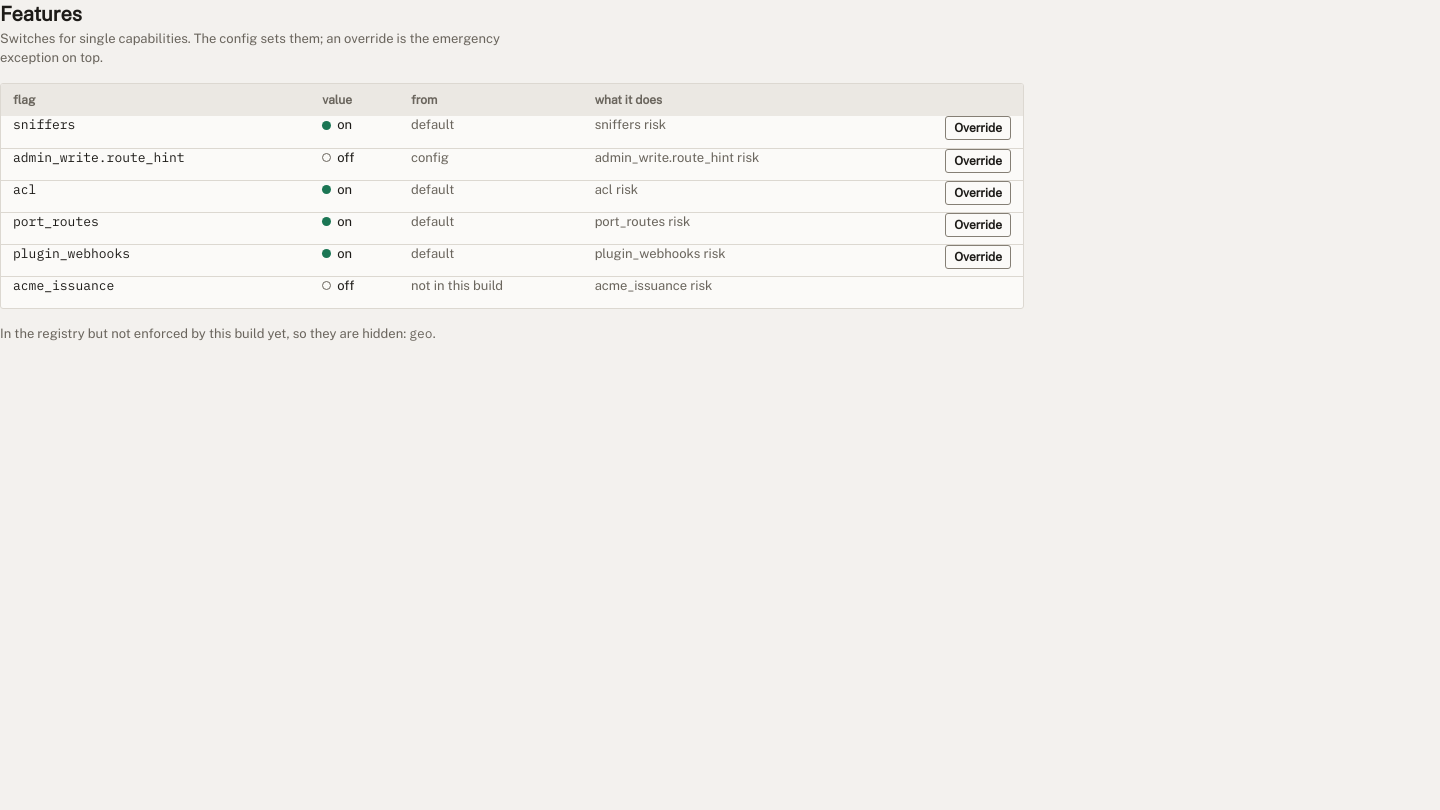
Test: Features page › shows the controller's refusal inside the dialog
Click the button with aria-label "Override sniffers" at (978, 128), box [945,116,1011,140]
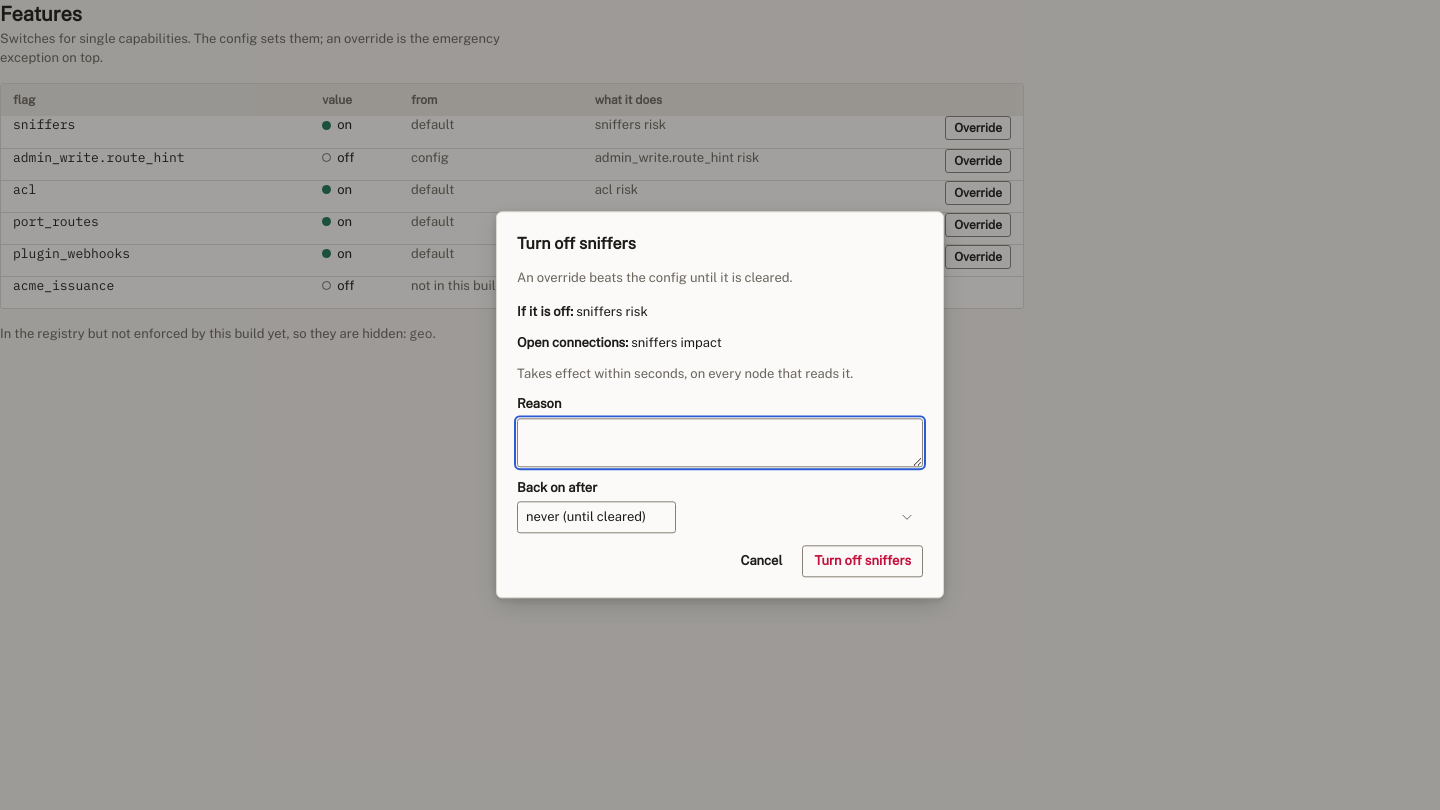
Type "x" into the text box labelled "Reason" at (720, 443), box [517,418,923,467]
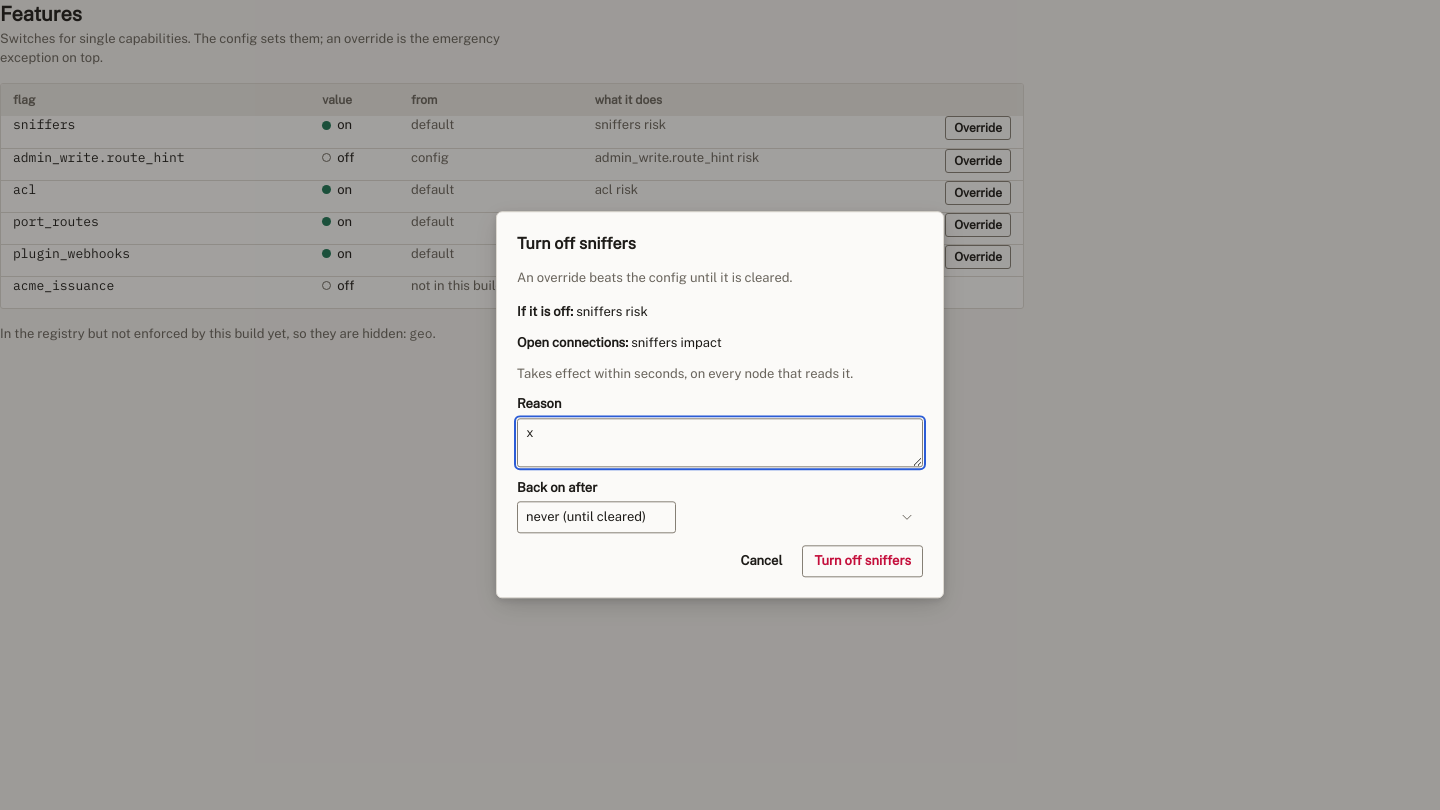
Click the button "Turn off sniffers" at (863, 562), box [802,546,923,578]
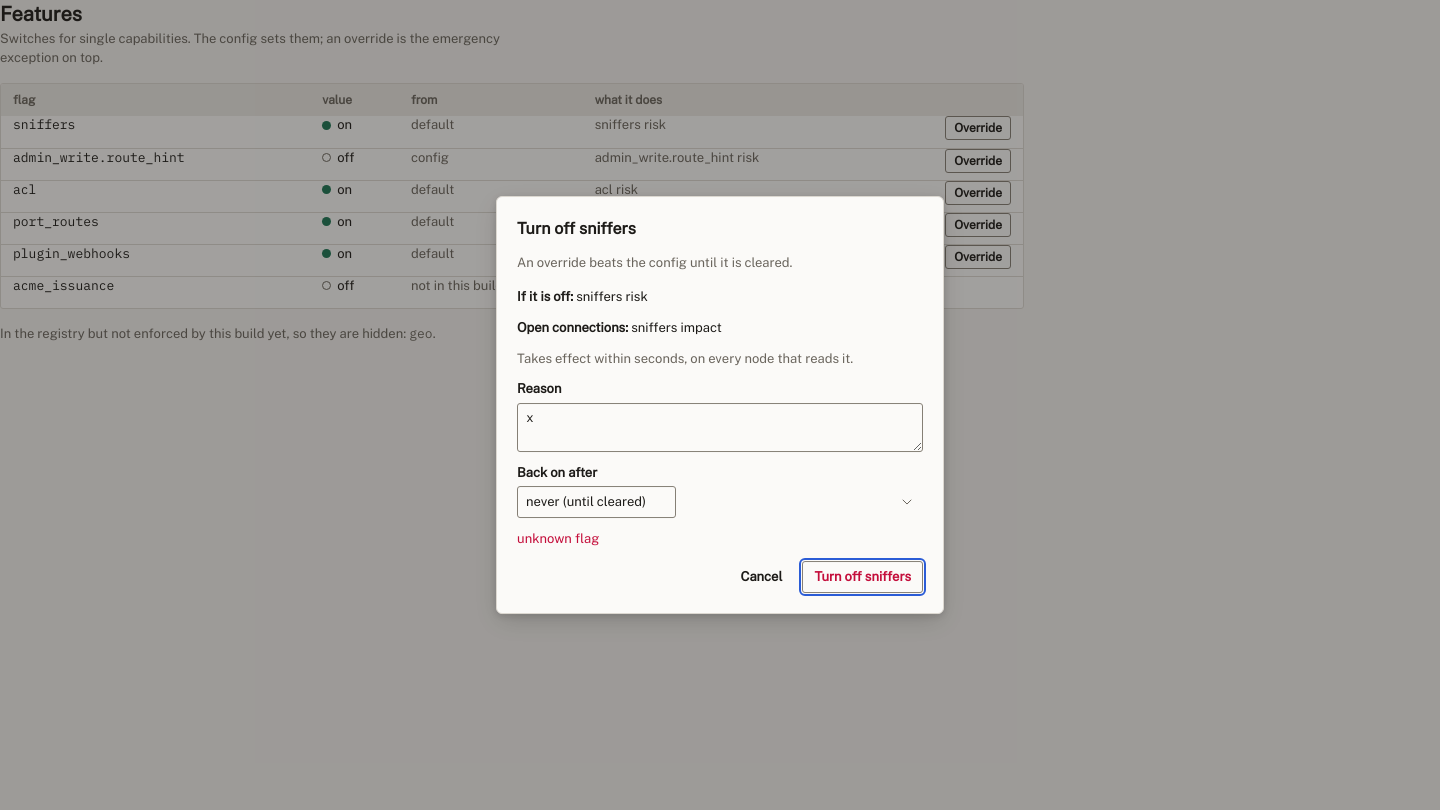
Expected: the text "unknown flag" is shown, [517,531,599,546]
